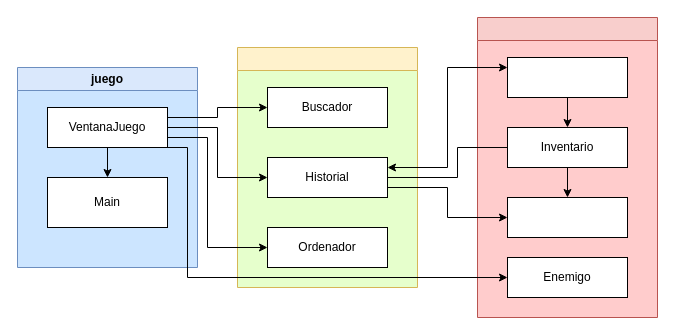
The diagram is 675 pixels wide and 335 high, and some of its shapes have lost their labels. The box of each missing label's shape, as (x1, y1, x2, y2) in pixels:
Jugador: (506, 56, 628, 98)
logica: (236, 46, 418, 288)
modelos: (476, 16, 658, 318)
Objeto: (506, 196, 628, 238)
